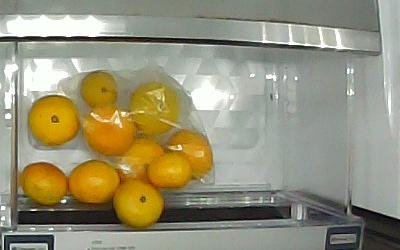tangerine: (28, 95, 81, 149), (113, 179, 165, 228), (67, 160, 121, 204), (19, 161, 68, 205), (147, 152, 194, 190)
tangerine_vinyl: (128, 82, 182, 138), (83, 106, 137, 157), (166, 128, 214, 182), (115, 139, 167, 183), (79, 70, 120, 108)
